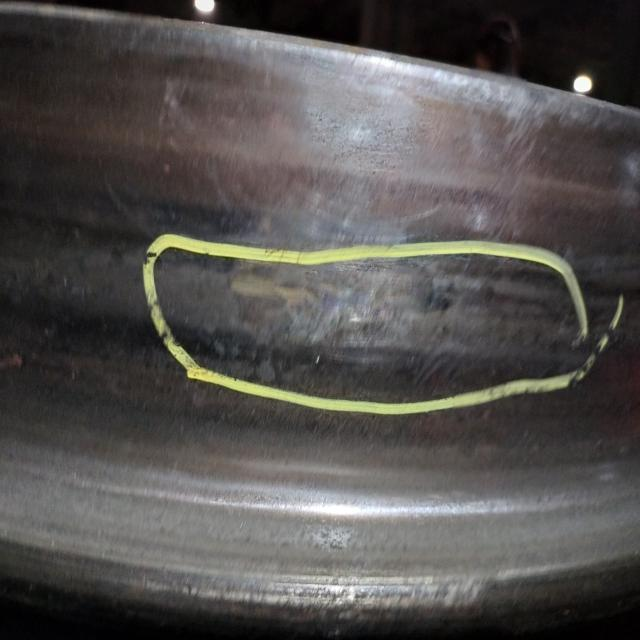flat: (216, 238, 570, 383)
